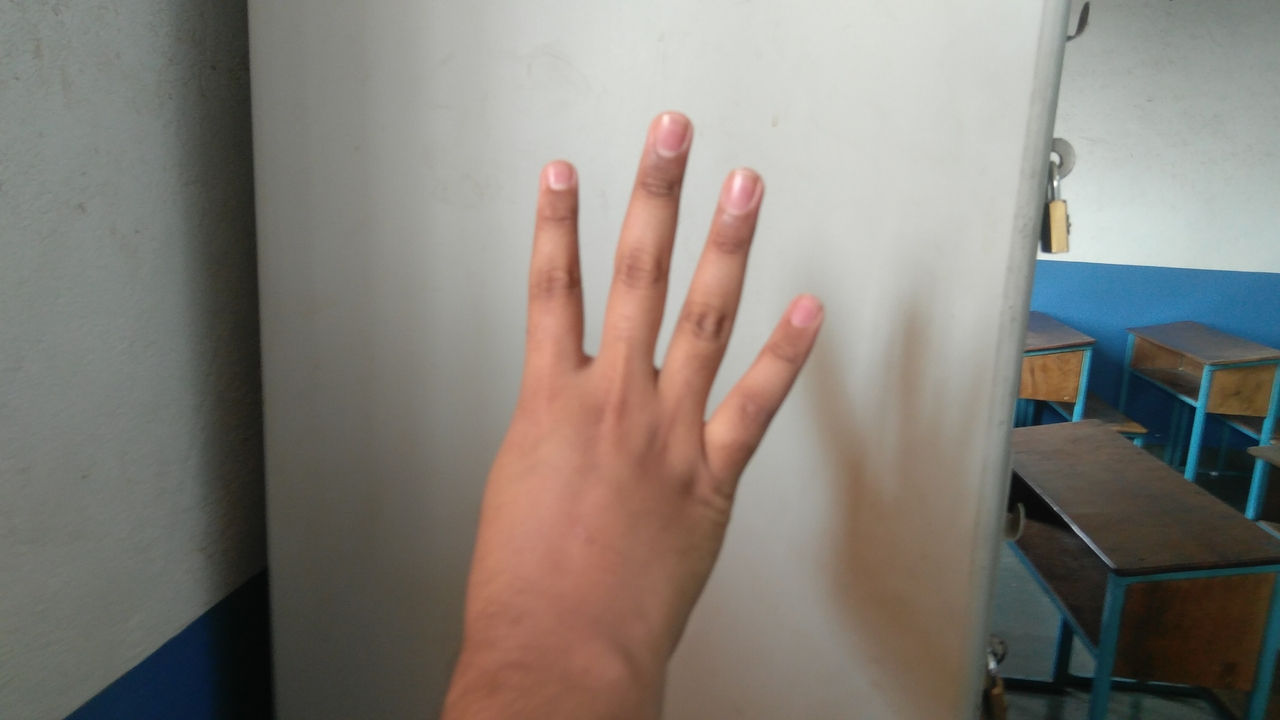fingertip: (708, 156, 772, 218), (770, 284, 836, 344), (634, 104, 700, 162), (526, 148, 584, 202)
